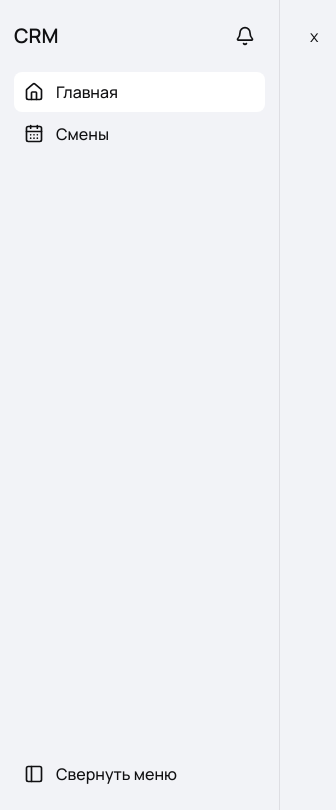
AppShell: сворачивание меню › кнопка сворачивает и разворачивает меню
Click the button "Свернуть меню" at (140, 774), box [14,754,265,794]
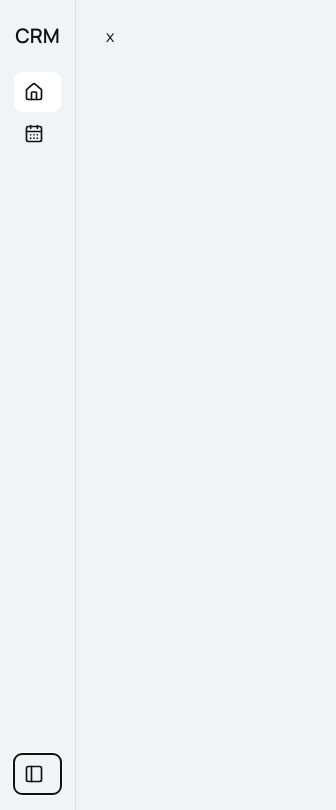
Now the button "Свернуть меню" is gone
Click the button at (38, 774), box [14,754,61,794]
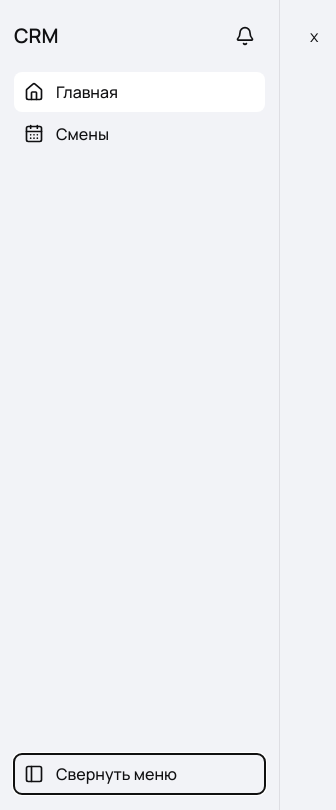
Now the button "Свернуть меню" is shown, box [14,754,265,794]
